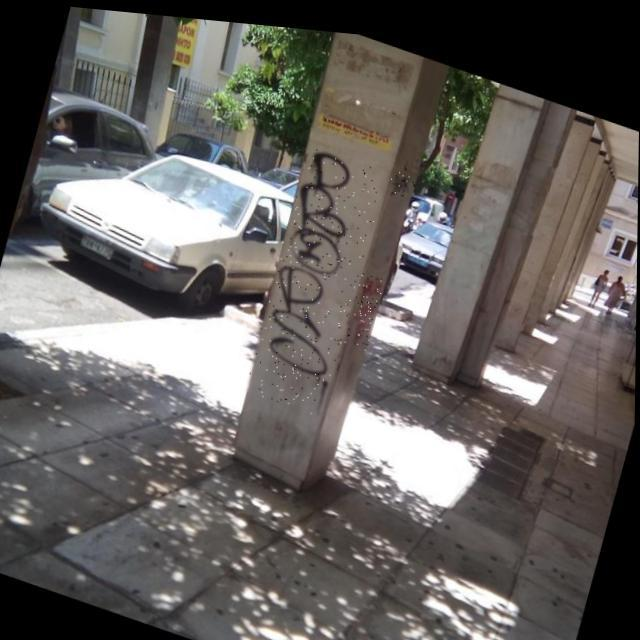-: (244, 134, 387, 415), (344, 264, 386, 345), (388, 158, 418, 192)
